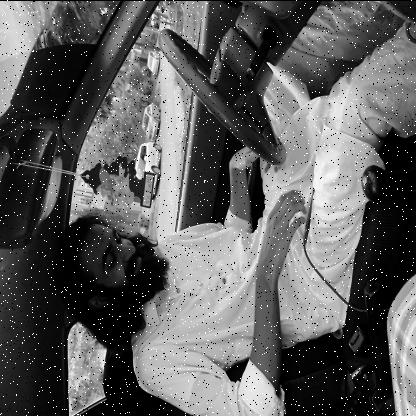no_seatbelt: (38, 189, 318, 343)
